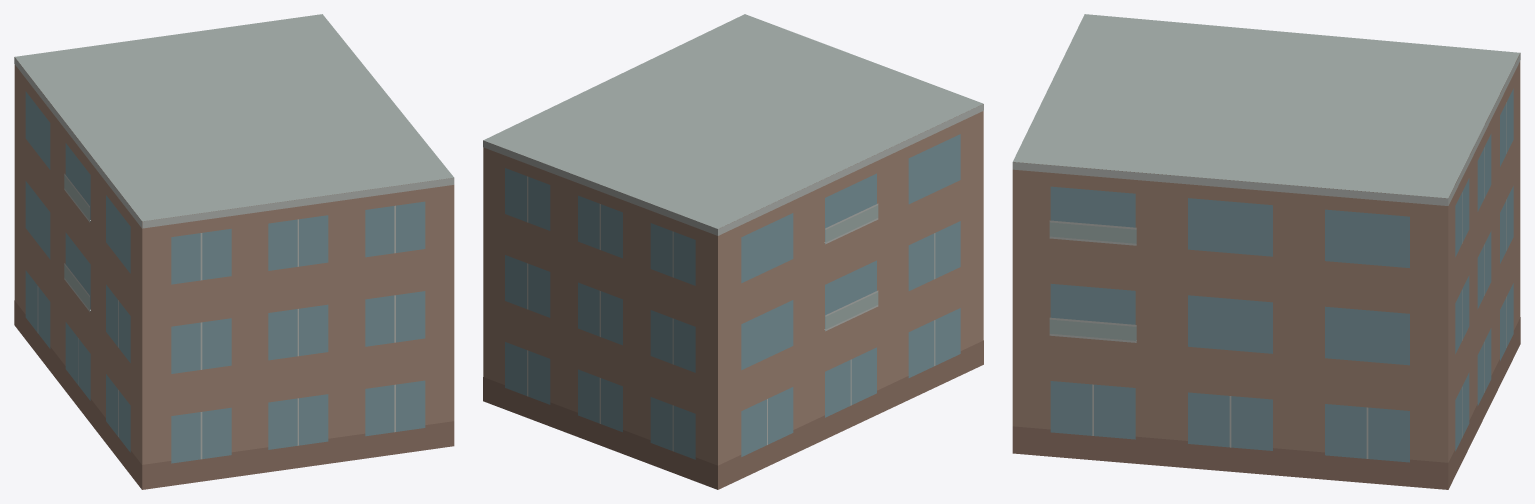
The model's file is survey-upis-32712824.glb.
The picture shows the model from 3 angles, left to right: view 1: azimuth 30°, elevation 25°; view 2: azimuth 150°, elevation 25°; view 3: azimuth 270°, elevation 25°; orthographic projection. The views are drawn at different scales.
Parts seen in each view (by area): view 1: survey-upis-32712824.tmp; view 2: survey-upis-32712824.tmp; view 3: survey-upis-32712824.tmp.
Boxes of the visible parts, x1=… form: survey-upis-32712824.tmp: x1=14, y1=14, x2=454, y2=489; survey-upis-32712824.tmp: x1=483, y1=14, x2=983, y2=489; survey-upis-32712824.tmp: x1=1012, y1=14, x2=1520, y2=489.
Bounding box in the file's own units: 12.42 × 9.15 × 14.45.
